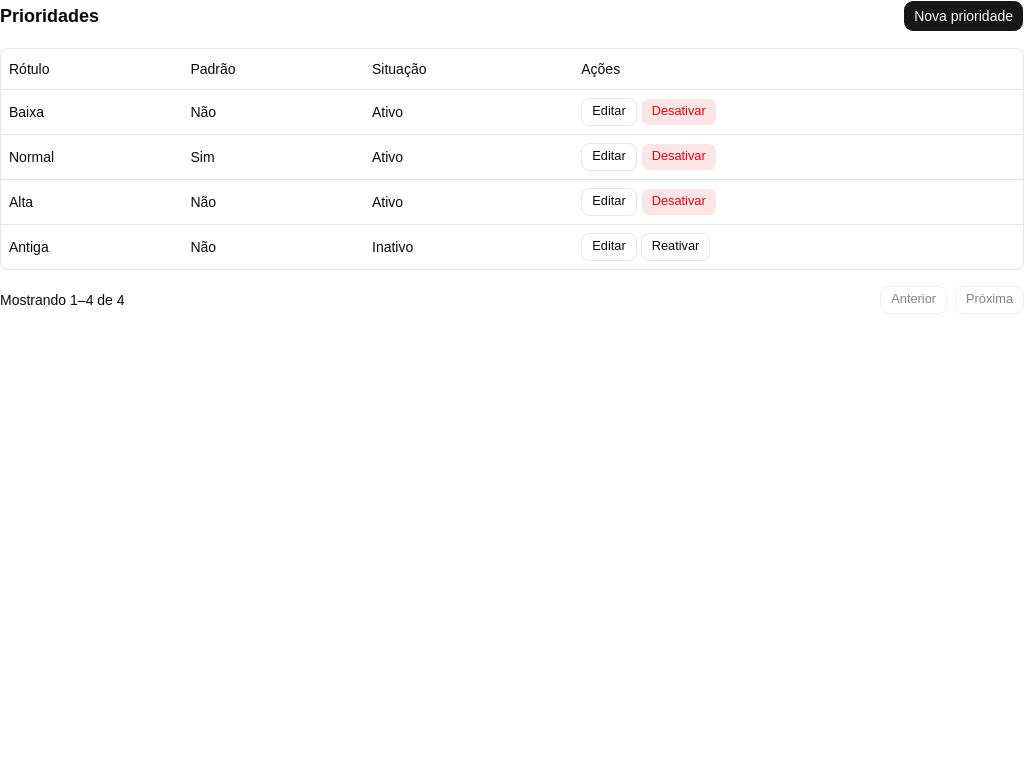
Test: PrioritiesTab and PriorityFormDialog (BR4.7) › shows the refusal to deactivate the default priority on its row
expect the cell "Normal" is shown: met, box [1,134,182,179]
Click the button with aria-label "Desativar Normal": (679, 156) [641,142,717,170]
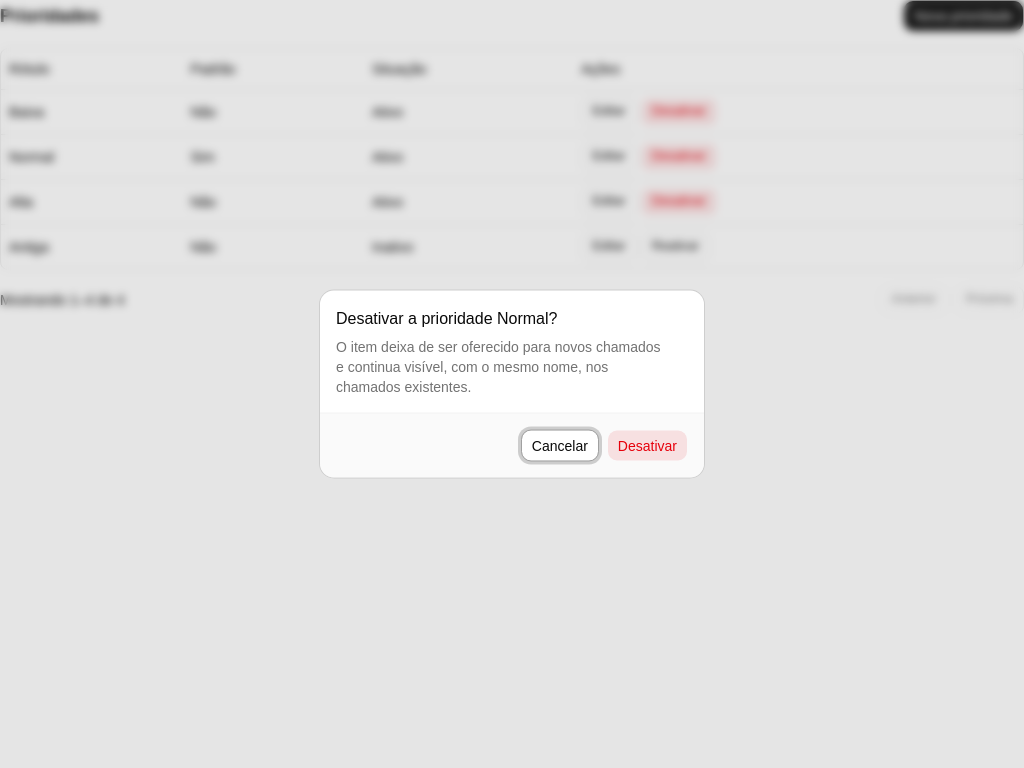
Click the button "Desativar": (647, 446) [607,430,688,462]
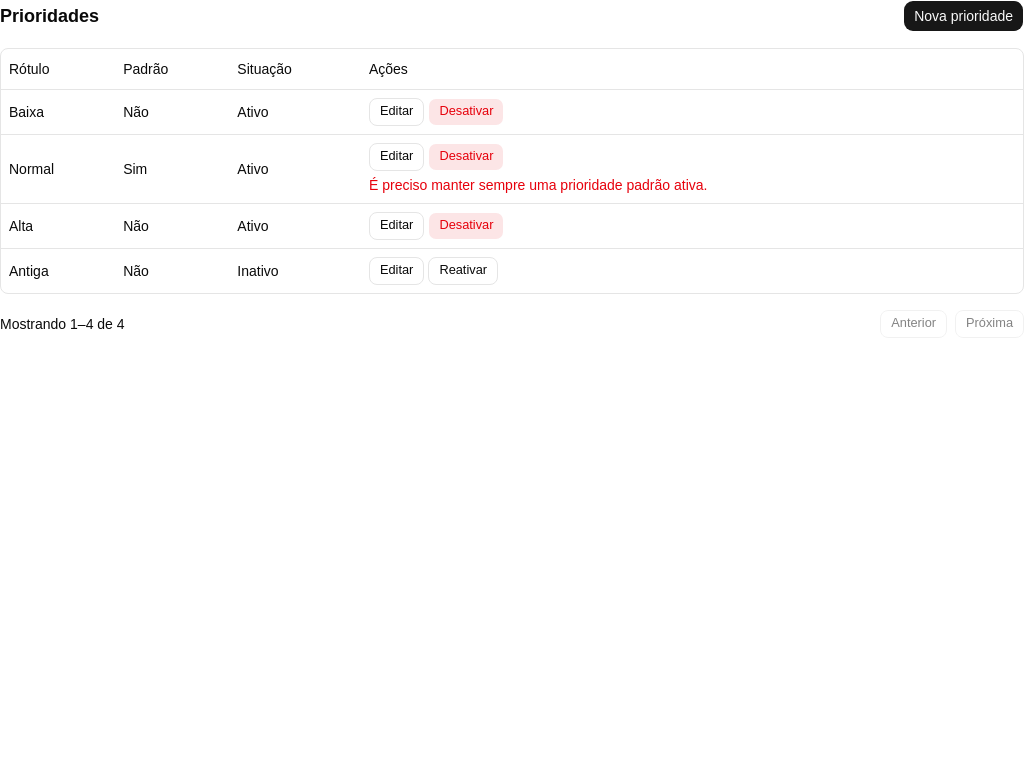
expect the message reads "É preciso manter sempre uma prioridade padrão ativa.": met, box [369,176,708,192]
